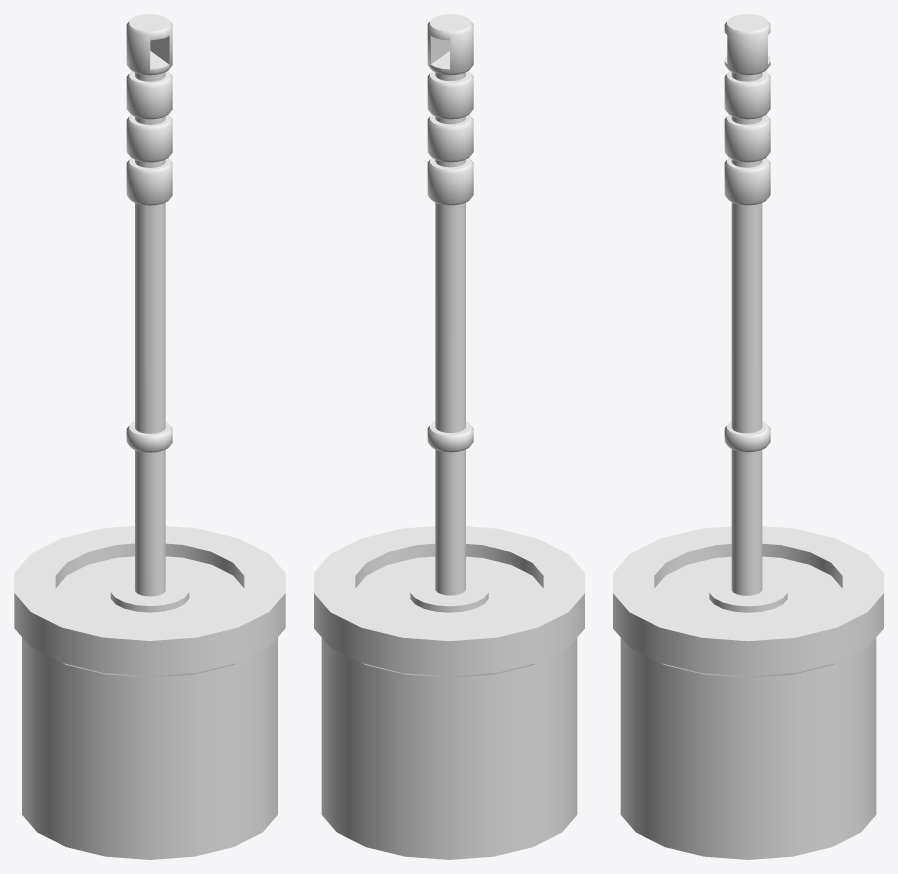
Rendered from Plunger.fbx.
3 renders of one model, left to right at view 1: azimuth 30°, elevation 25°; view 2: azimuth 150°, elevation 25°; view 3: azimuth 270°, elevation 25°, orthographic.
Parts seen in each view (by area): view 1: Plunger; view 2: Plunger; view 3: Plunger.
Part boxes in pixels (left/top/right/bottom): Plunger: left=14, top=14, right=285, bottom=859; Plunger: left=314, top=14, right=584, bottom=859; Plunger: left=613, top=14, right=883, bottom=859.
Size of the model in its own units: 14.16 by 44.42 by 13.94.
Materials: 1 (1 with a texture image).
